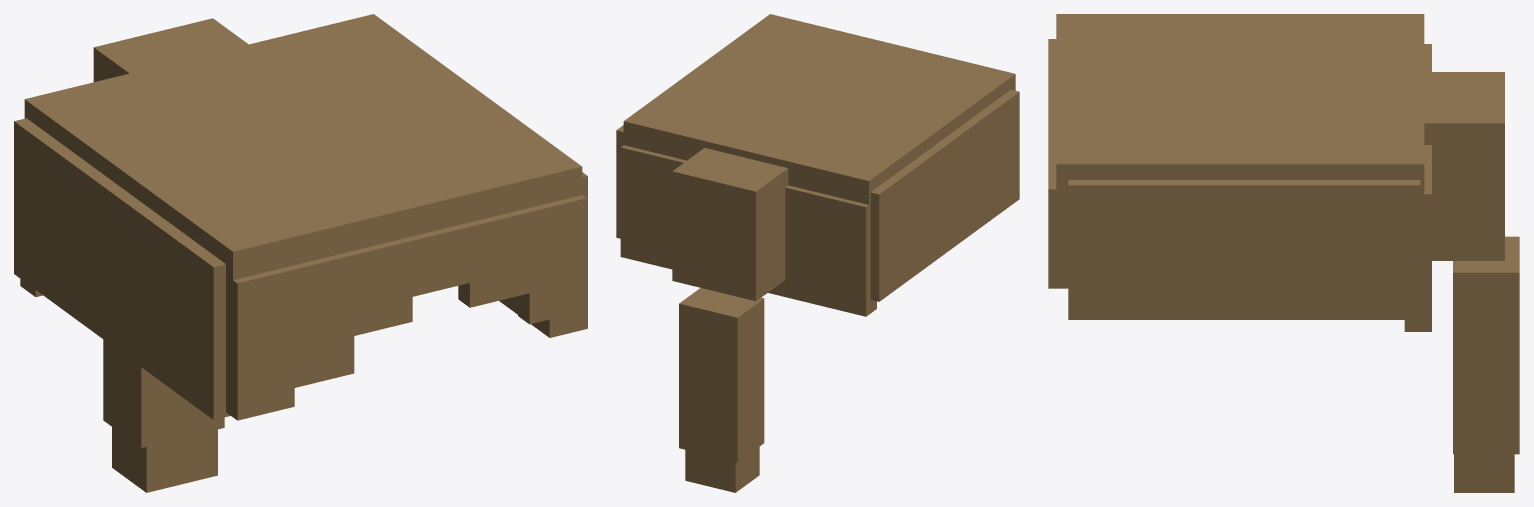
Rendered from hair_ponytail.glb.
3 renders of one model, left to right at view 1: azimuth 30°, elevation 25°; view 2: azimuth 150°, elevation 25°; view 3: azimuth 270°, elevation 25°, orthographic. The views are drawn at different scales.
Parts seen in each view (by area): view 1: char_hair_visual; view 2: char_hair_visual; view 3: char_hair_visual.
Part boxes in pixels (<box>): char_hair_visual: <box>14,14,587,492</box>; char_hair_visual: <box>616,14,1019,492</box>; char_hair_visual: <box>1048,14,1519,492</box>.
Bounding box in the file's own units: 0.628 × 0.7055 × 0.776.
